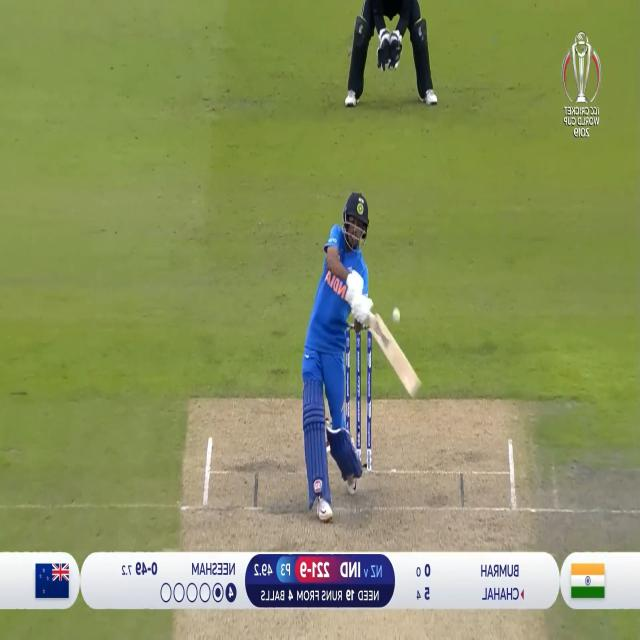ball: (389, 306, 403, 324)
stump: (347, 324, 371, 446)
